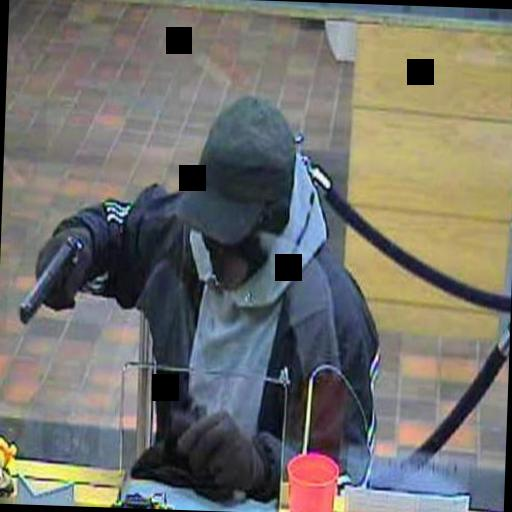Handgun: (16, 231, 80, 326)
